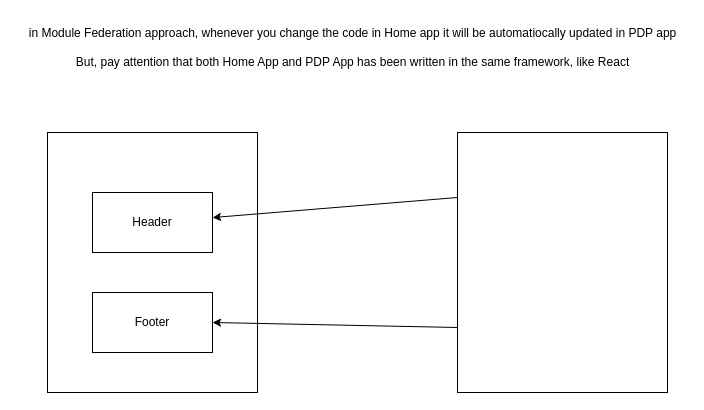
This 704x410 diagram has some shape labels left out. Each missing label, with the box of its shape:
Home App (1.0.0): (46, 132, 258, 392)
PDP App (1.0.0): (456, 132, 668, 392)
